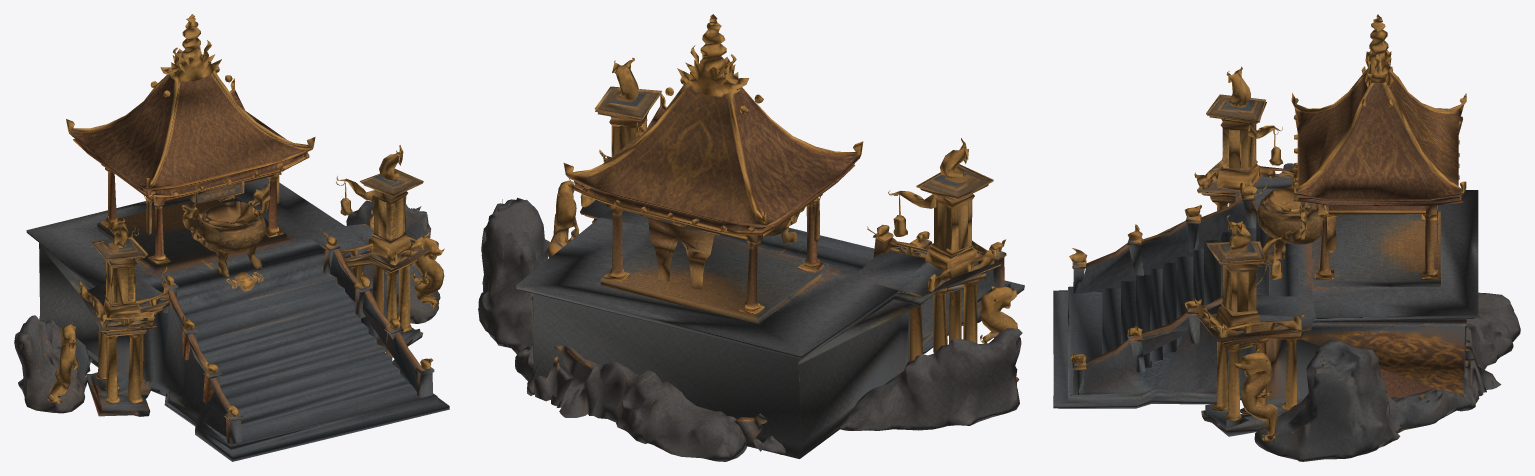
The model's file is DenThieng_DinhSoc.fbx.
3 renders of one model, left to right at view 1: azimuth 30°, elevation 25°; view 2: azimuth 150°, elevation 25°; view 3: azimuth 270°, elevation 25°, orthographic. The views are drawn at different scales.
Parts seen in each view (by area): view 1: Mesh_0; view 2: Mesh_0; view 3: Mesh_0.
Boxes of the visible parts, x1=… form: Mesh_0: x1=14, y1=14, x2=449, y2=461; Mesh_0: x1=478, y1=14, x2=1024, y2=461; Mesh_0: x1=1053, y1=14, x2=1520, y2=461.
Size of the model in its own units: 95.75 by 66.99 by 83.79.
Materials: 1 (1 with a texture image).
